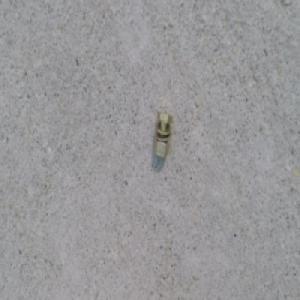BoltNutSet: (151, 112, 173, 158)
